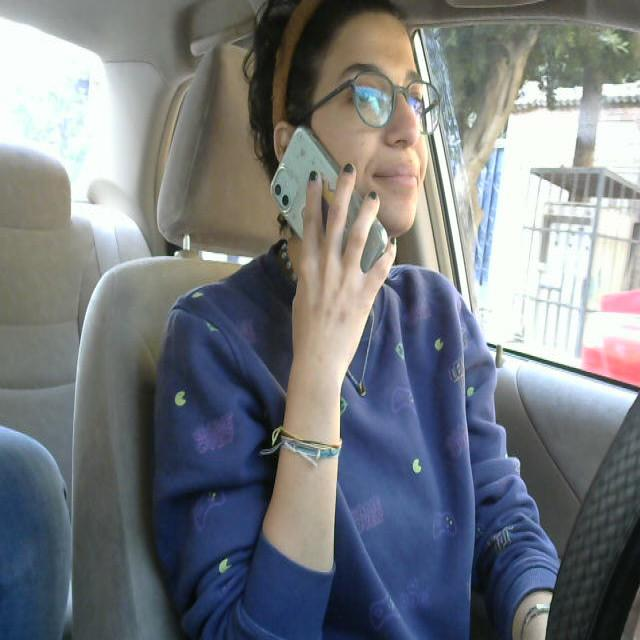mobile use: (266, 124, 396, 306)
